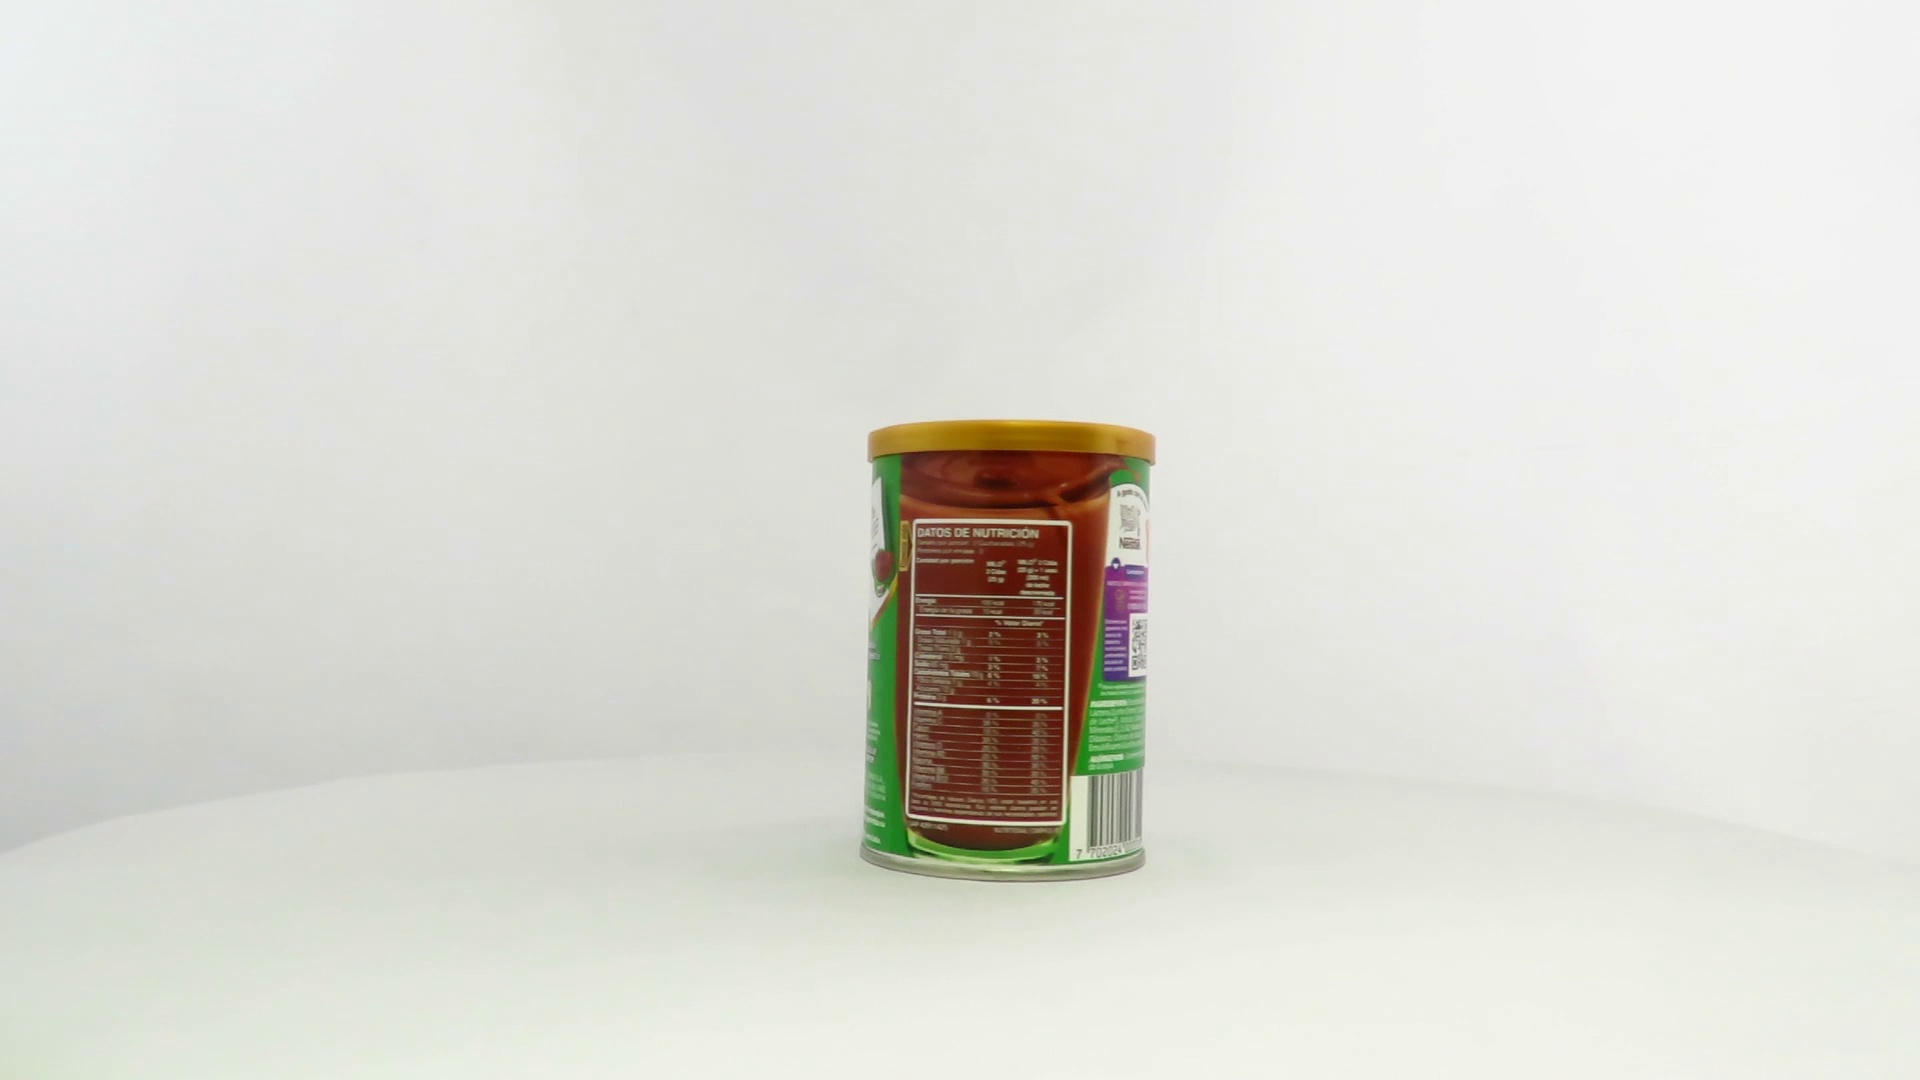COL0170203LAT20000: (855, 414, 1162, 889)
